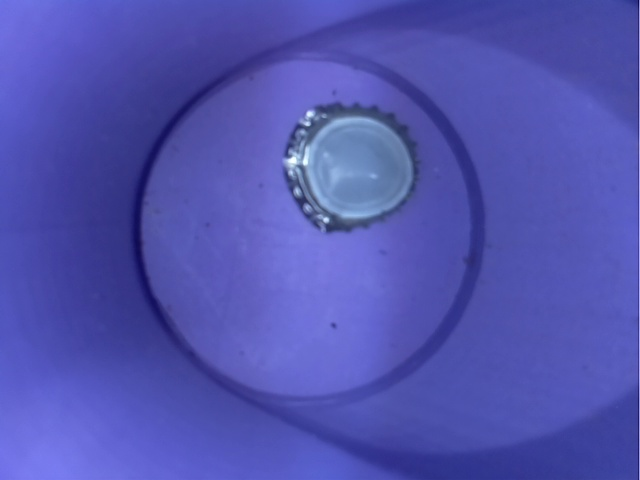capsule: (265, 91, 437, 235)
